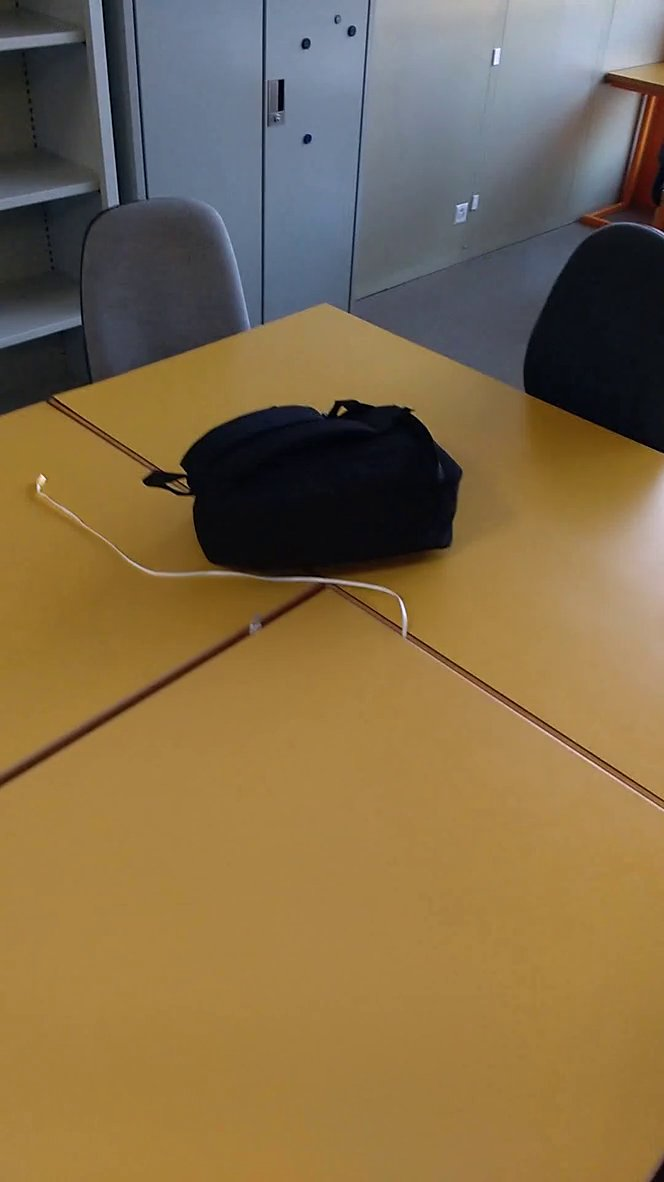bag: (135, 383, 485, 578)
chair: (71, 178, 275, 396), (515, 203, 664, 465)
